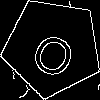O: (27, 22, 83, 82)
